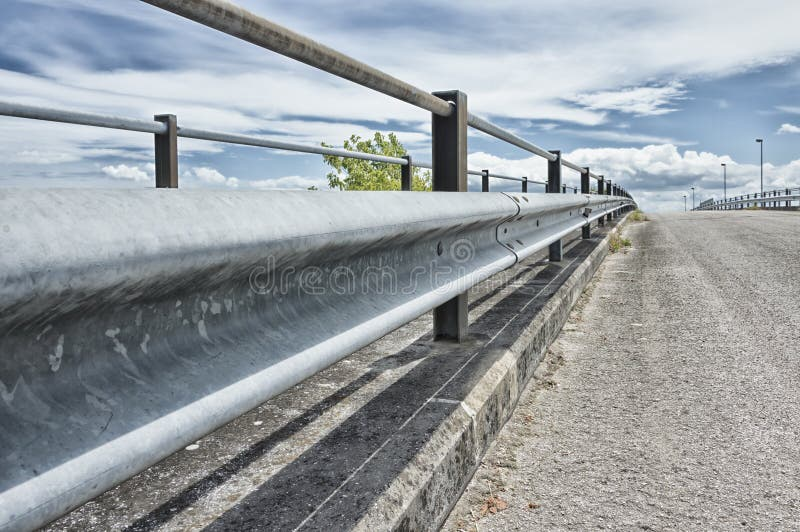not_damaged: (47, 191, 668, 257)
